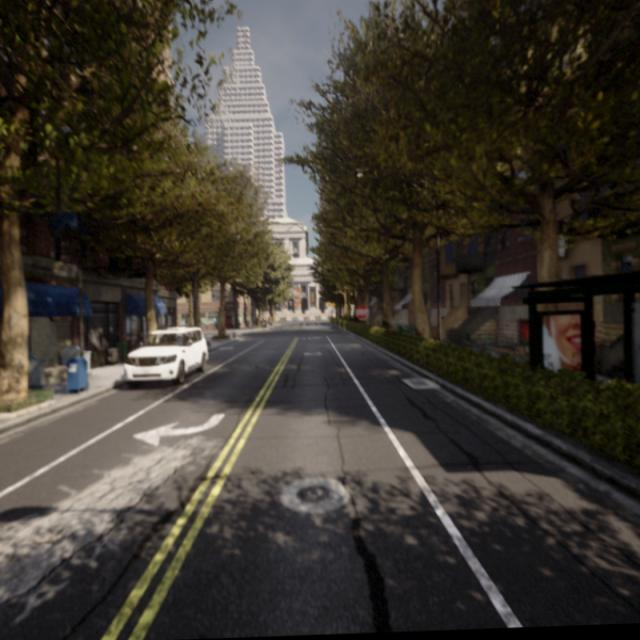stop sign: (352, 301, 370, 322)
